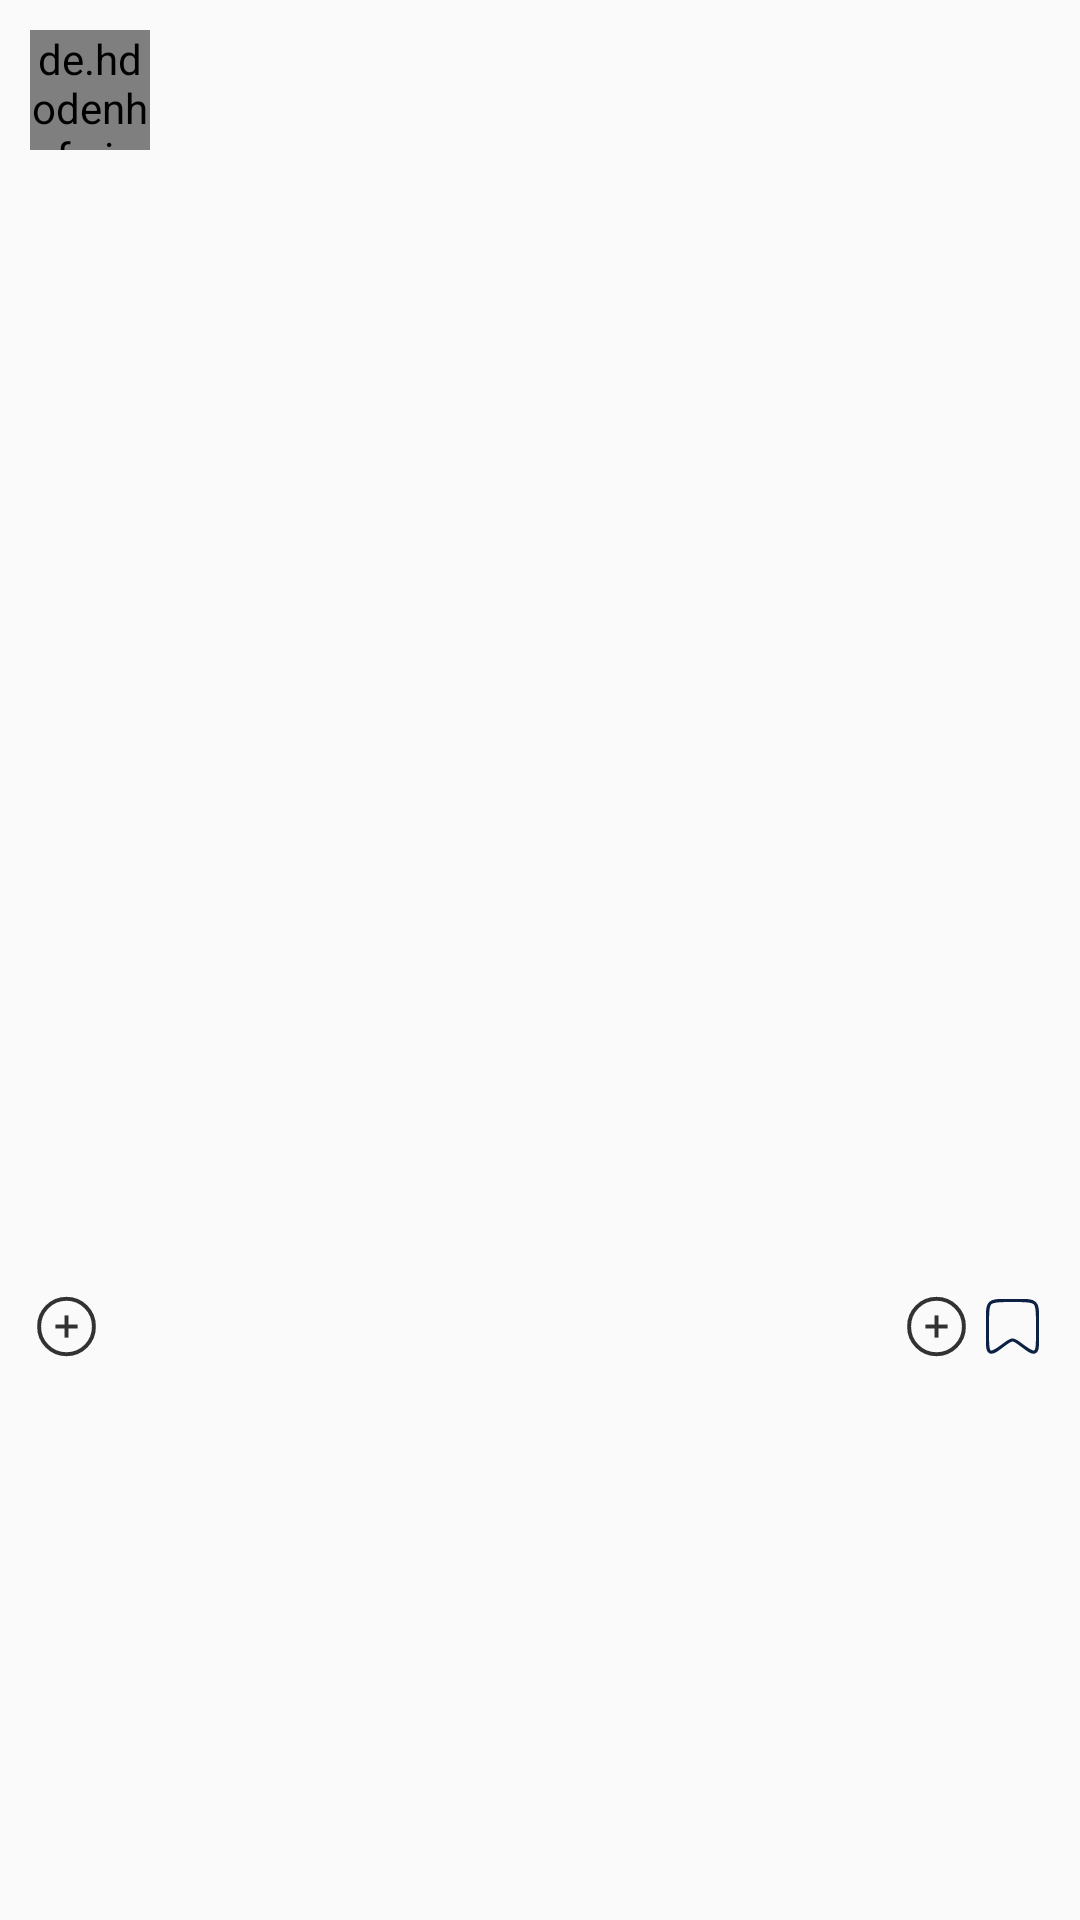

Named icons in this screenshot (1080 x 1920) and their centers, point (x, y):
add: point (66, 1326), point (936, 1326)
bookmark: point (1012, 1326)
